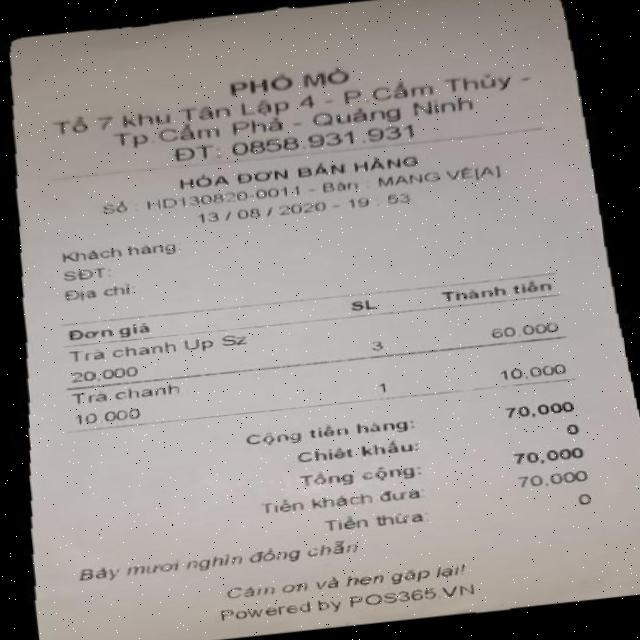Date: (190, 194, 333, 229)
Store_Name: (218, 65, 356, 99)
amount_number: (510, 444, 588, 467)
label_total: (293, 458, 424, 492)
